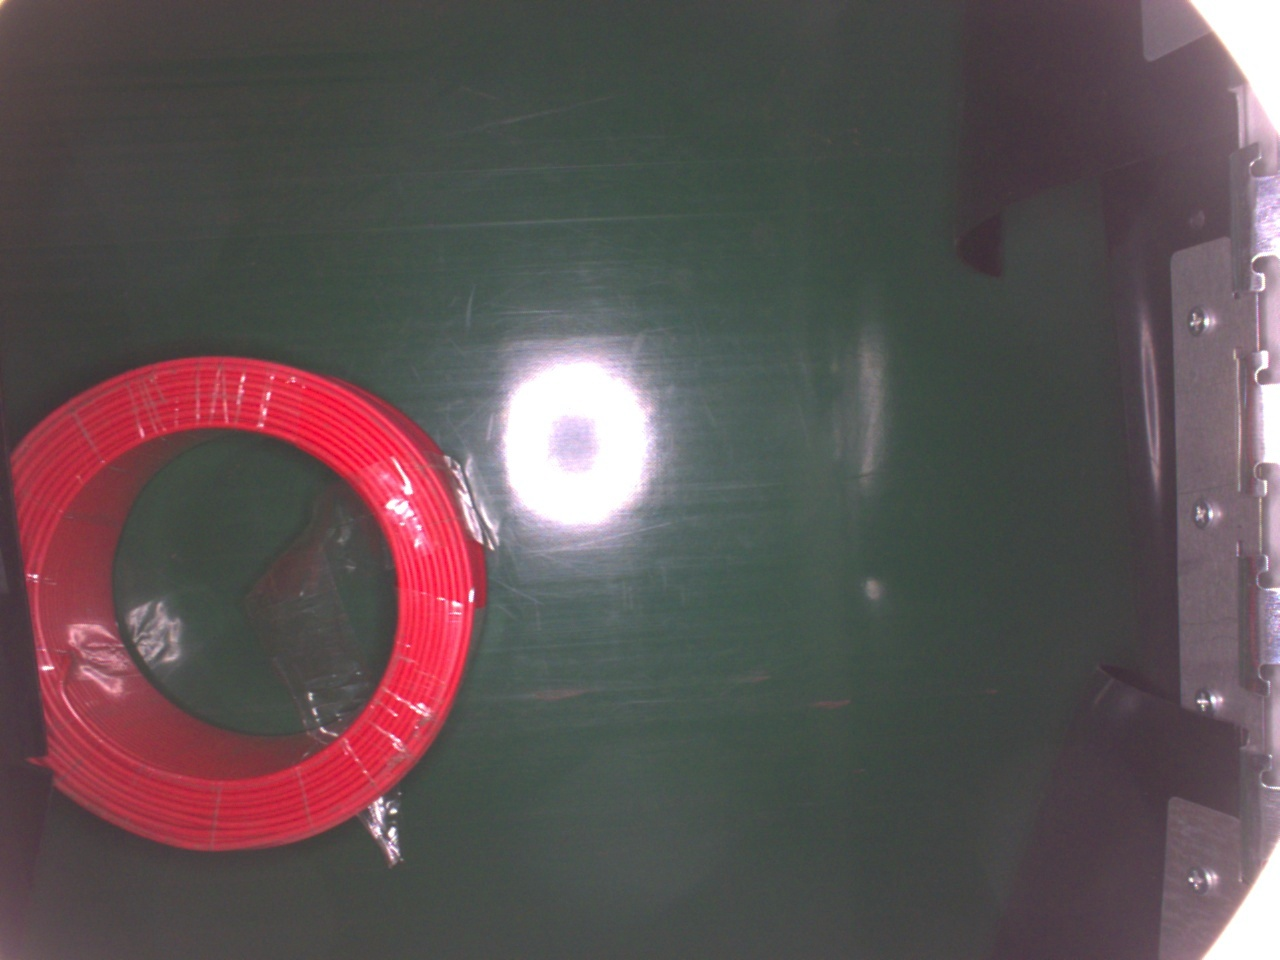red: (13, 354, 487, 865)
